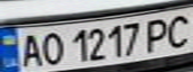1: (66, 26, 90, 63), (106, 21, 127, 57)
2: (84, 25, 109, 62)
7: (121, 19, 145, 56)
A: (15, 30, 45, 70)
C: (160, 11, 193, 48)
O: (36, 30, 66, 66)
P: (139, 16, 175, 53)
